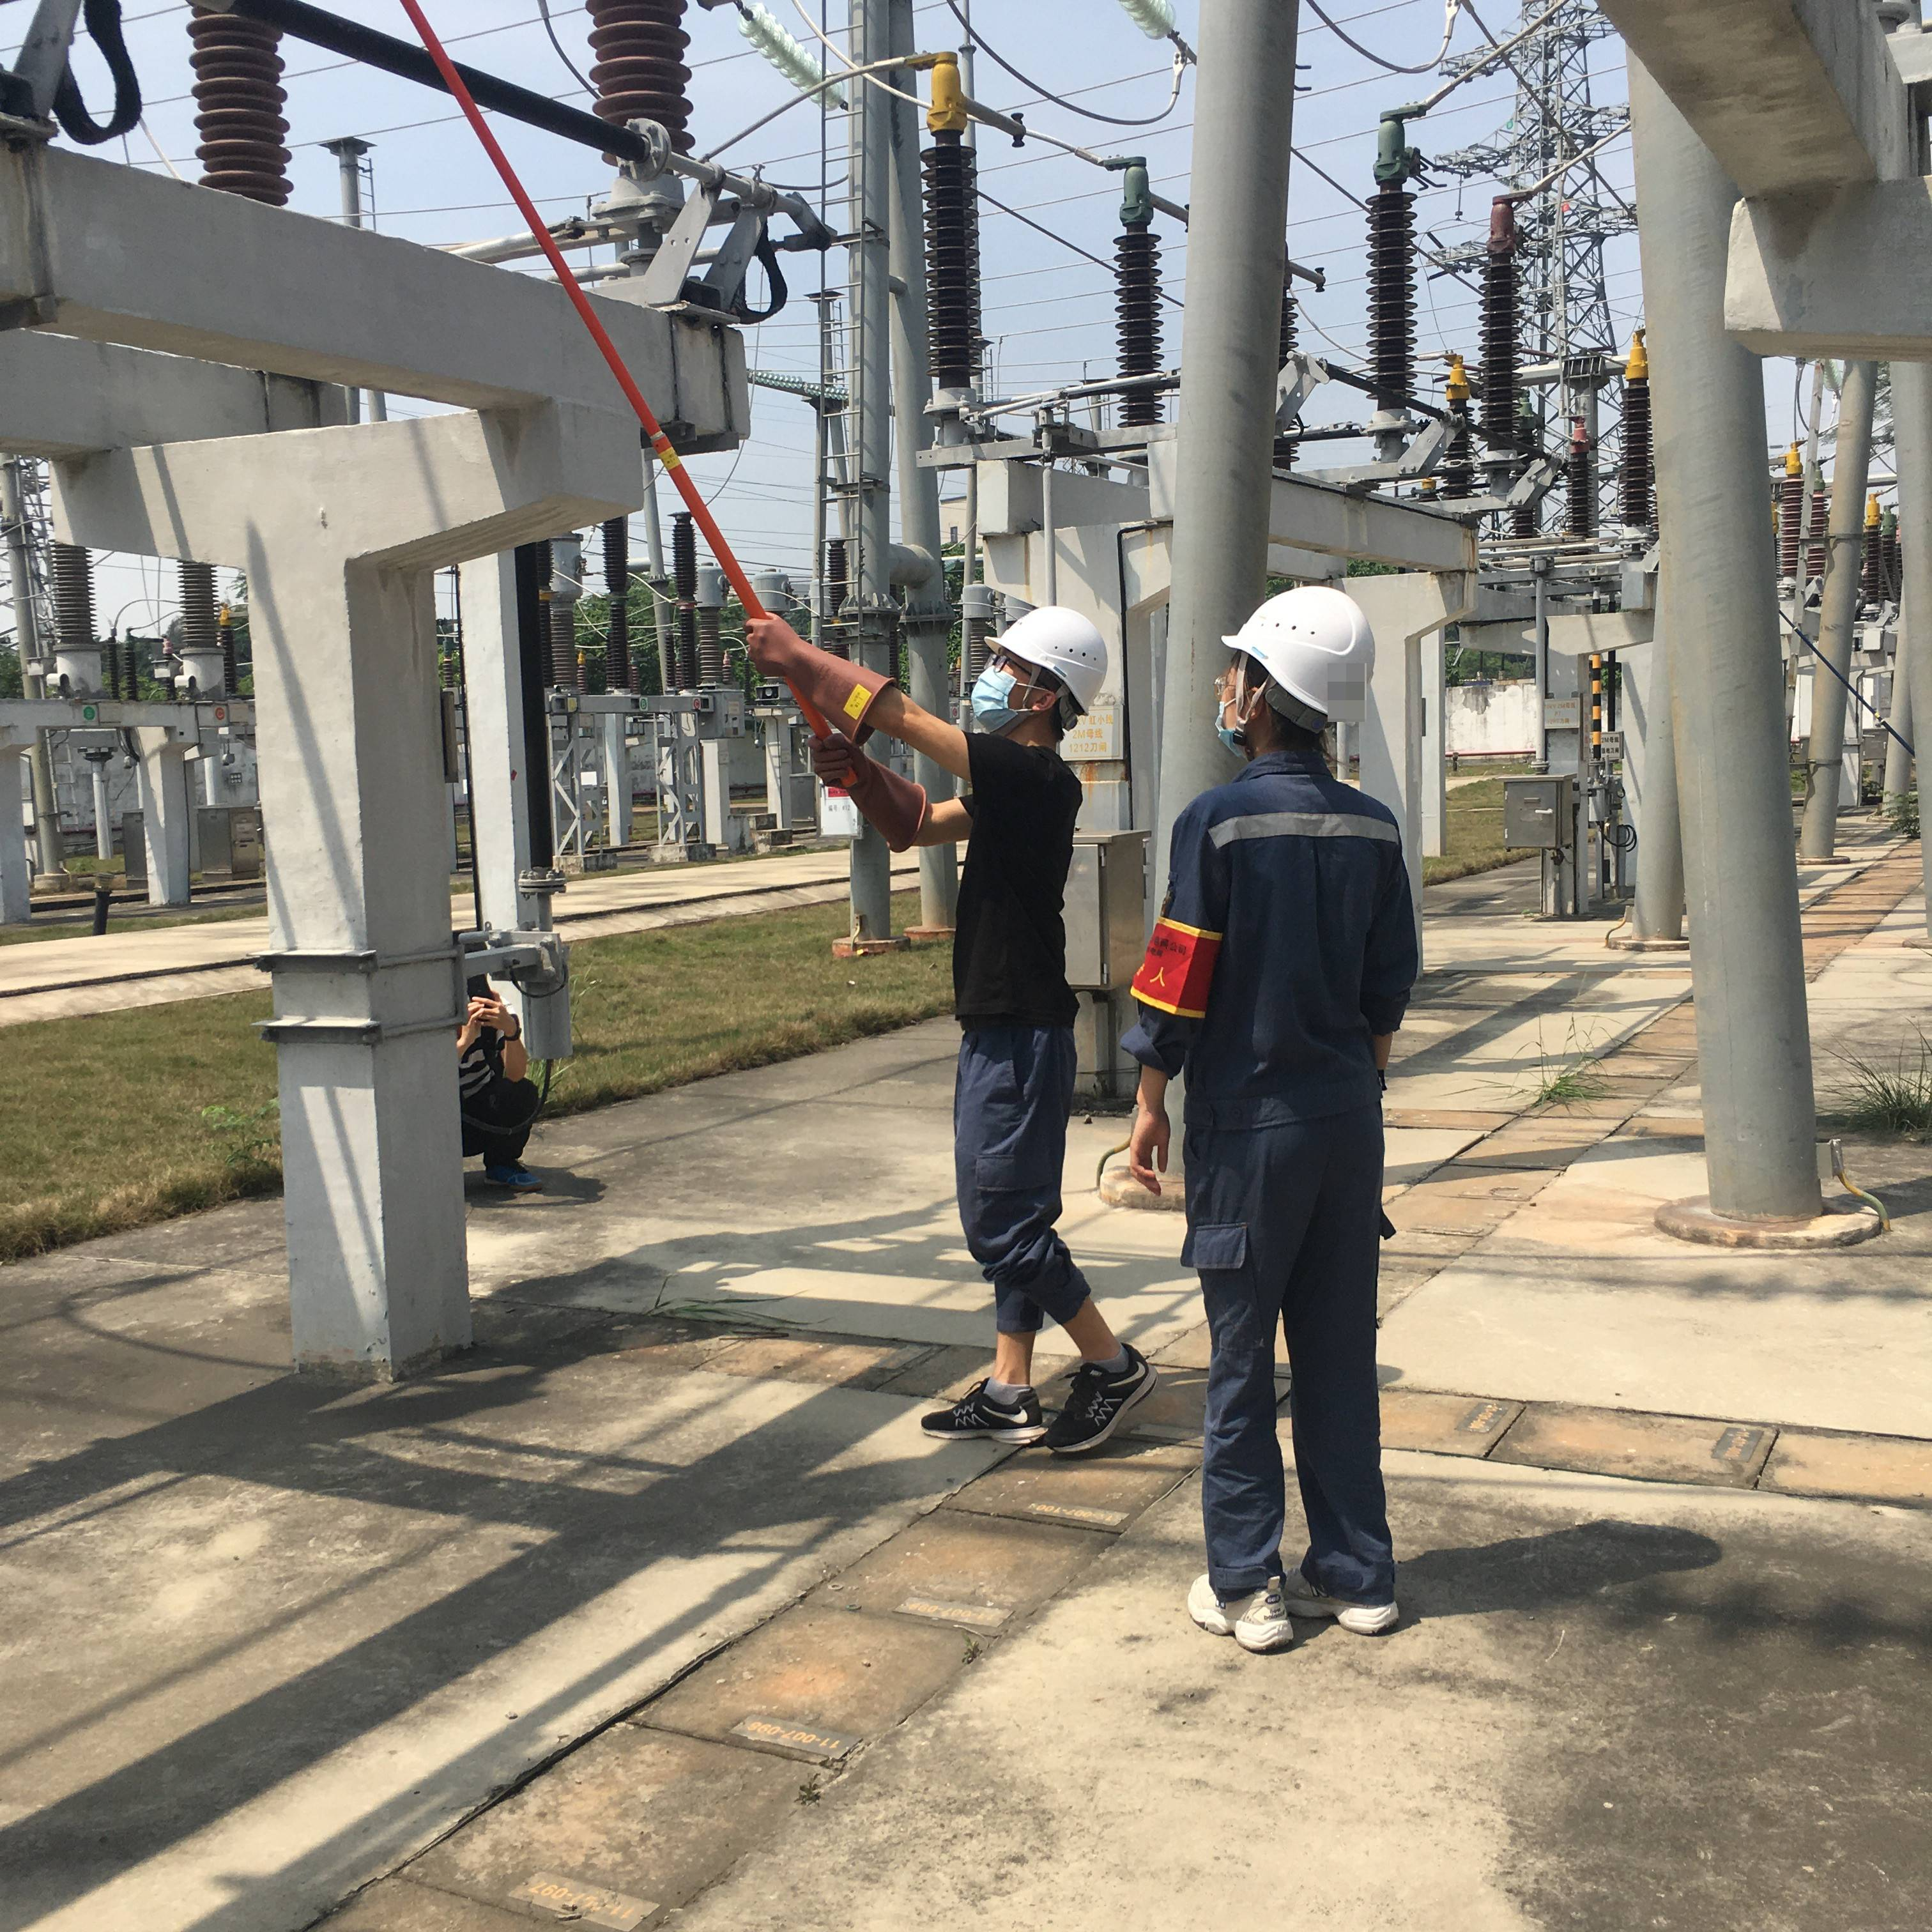downsuit: (1182, 1097, 1412, 1599), (924, 1016, 1120, 1364)
upcloth: (909, 743, 1106, 1047)
upsuit: (1132, 745, 1435, 1115)
wrongbottom: (978, 1304, 1141, 1401)
